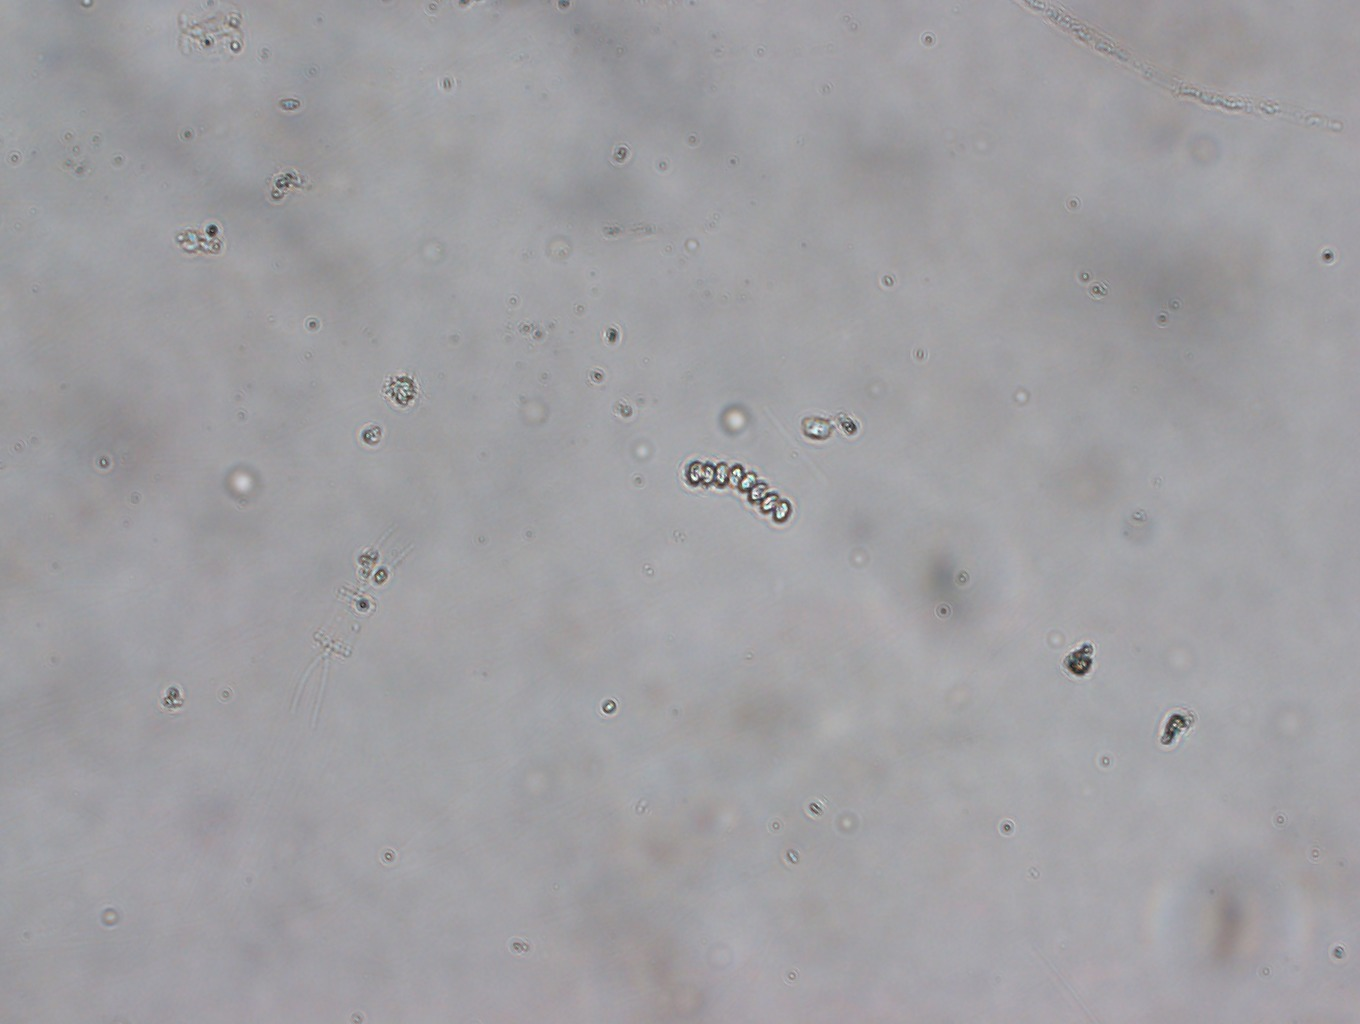skeletonema: (681, 458, 794, 525)
